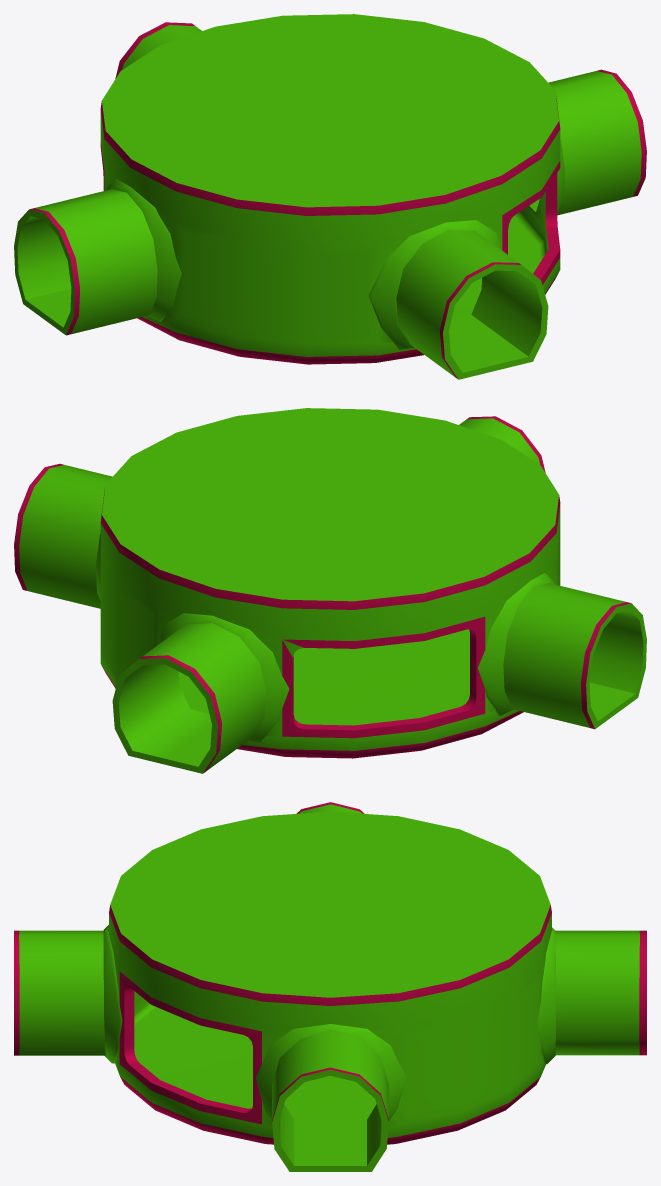
Rendered from arc_sci_base-Domehouse-Junction.fbx.
The picture shows the model from 3 angles, top to bottom: view 1: azimuth 30°, elevation 25°; view 2: azimuth 150°, elevation 25°; view 3: azimuth 270°, elevation 25°; orthographic projection. The views are drawn at different scales.
Visible parts, largest first — view 1: arc_sci_base-Domehouse-Junction; view 2: arc_sci_base-Domehouse-Junction; view 3: arc_sci_base-Domehouse-Junction.
Boxes of the visible parts, x1,y1,x2,y2 form: arc_sci_base-Domehouse-Junction: (14, 14, 646, 379); arc_sci_base-Domehouse-Junction: (14, 408, 646, 773); arc_sci_base-Domehouse-Junction: (14, 802, 646, 1171).
Size of the model in its own units: 14.66 by 4 by 14.66.
